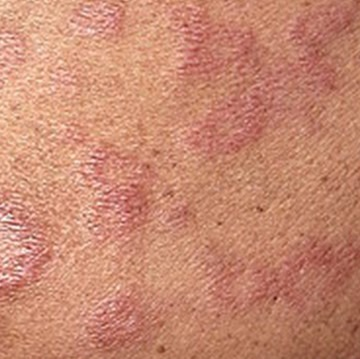Leprosy: (162, 1, 359, 149), (55, 117, 190, 239), (187, 226, 359, 317), (0, 188, 55, 309), (84, 282, 177, 353), (63, 0, 129, 42), (0, 12, 32, 90)
